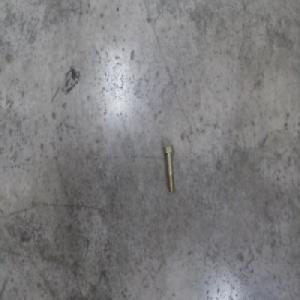Bolt: (161, 144, 173, 193)
